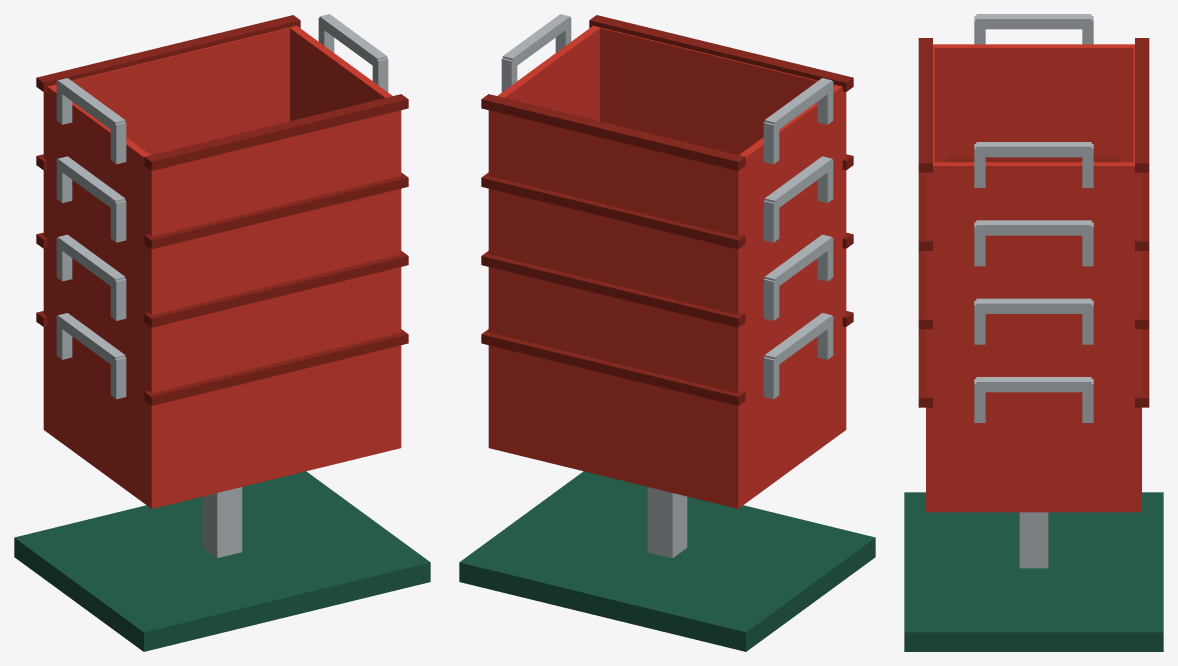
File: basket_stand.glb
3 renders of one model, left to right at view 1: azimuth 30°, elevation 25°; view 2: azimuth 150°, elevation 25°; view 3: azimuth 270°, elevation 25°, orthographic.
Visible parts, largest first — view 1: BasketStand; view 2: BasketStand; view 3: BasketStand.
Part boxes in pixels (bbox=[...]): BasketStand: bbox=[14, 14, 430, 651]; BasketStand: bbox=[459, 14, 875, 651]; BasketStand: bbox=[904, 14, 1163, 651].
Size of the model in its own units: 0.46 by 0.768 by 0.36.
